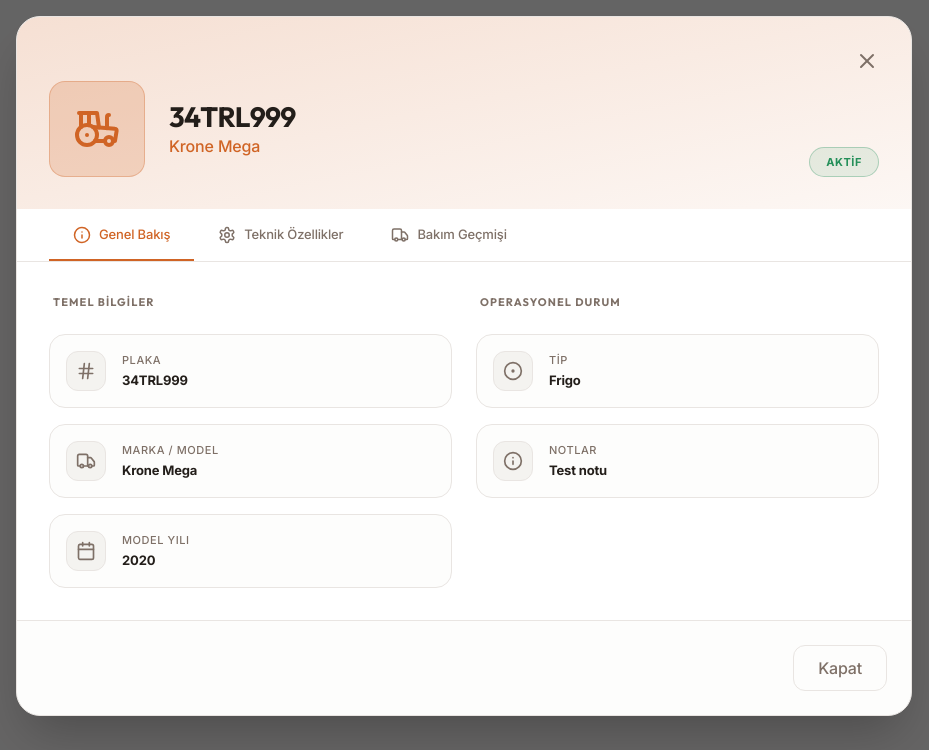
TrailerDetailModal › shows maintenance unavailable message on Maintenance tab
Click the button "Bakım Geçmişi" at point(449, 235), box [368,209,531,260]
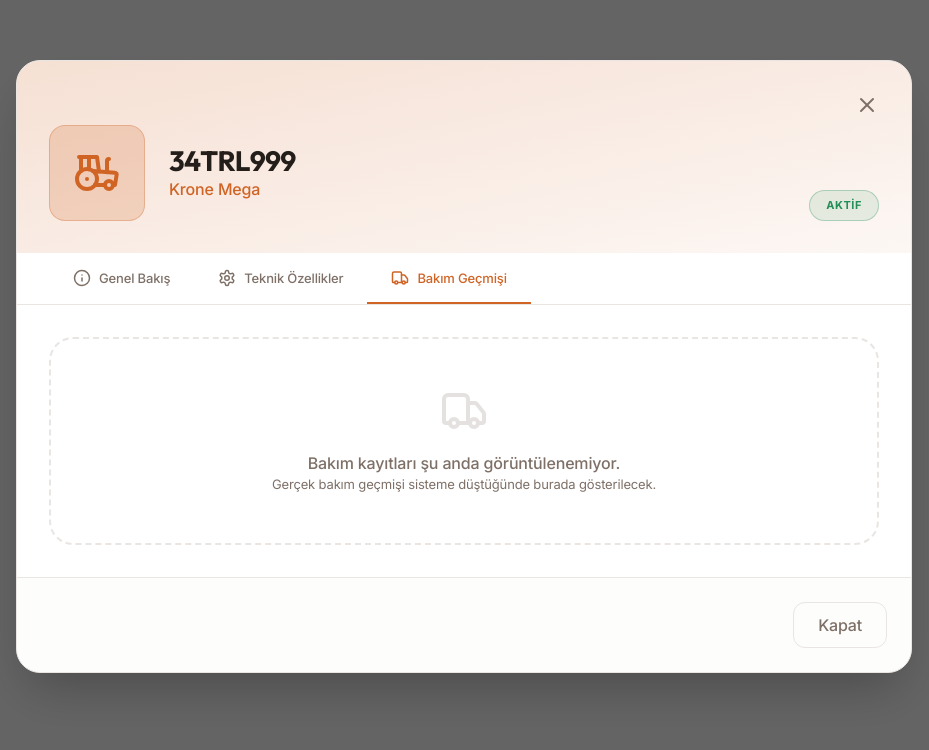
Now the text "Bakım kayıtları şu anda görüntülenemiyor." is shown, box [308,451,620,475]
